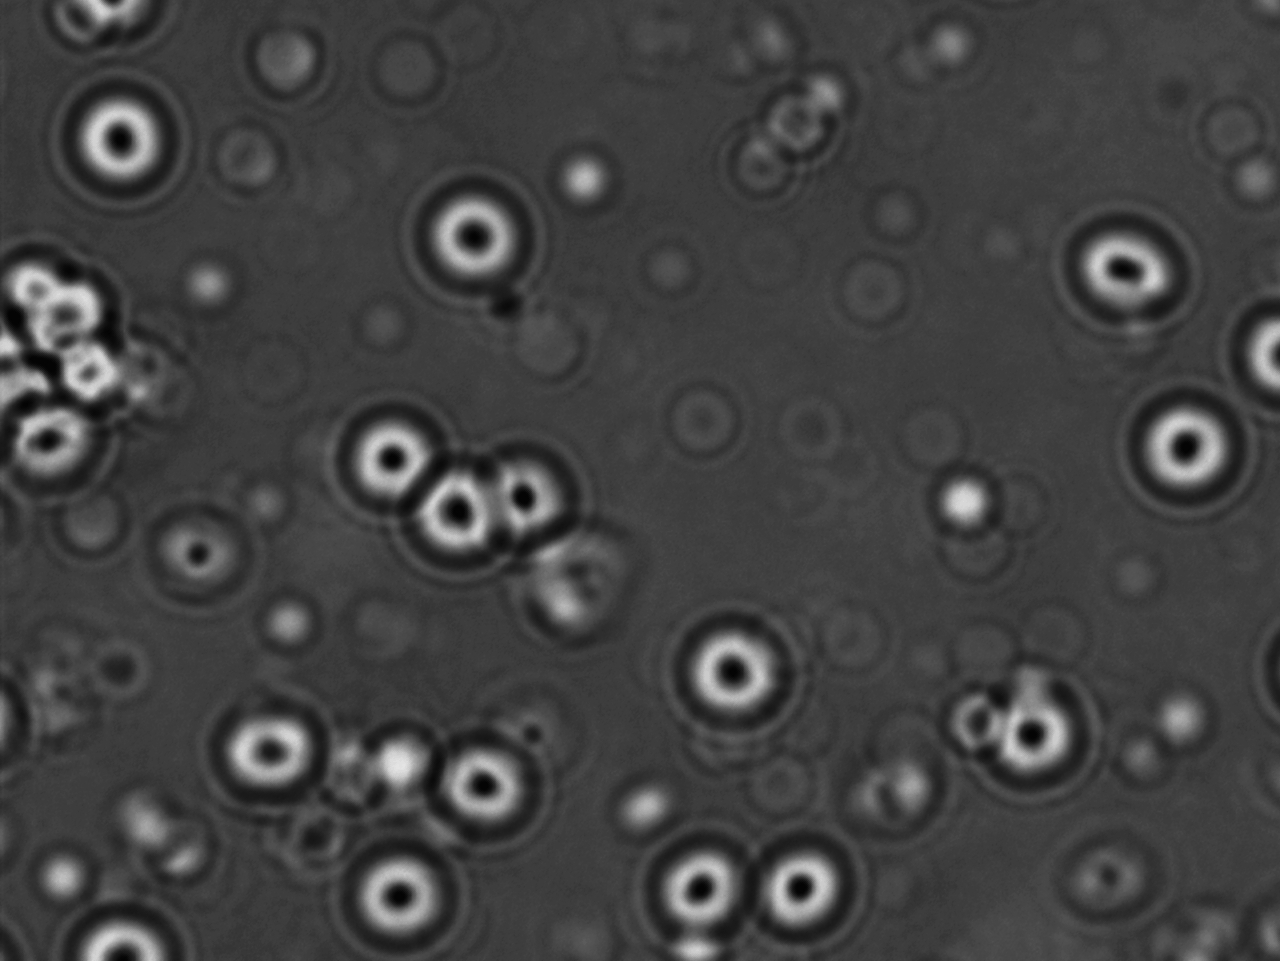depth:16: (401, 161, 561, 307), (51, 77, 199, 216), (662, 596, 807, 731), (965, 671, 1106, 808), (1063, 198, 1199, 332), (1122, 383, 1253, 518), (322, 380, 452, 508), (203, 685, 335, 810), (338, 829, 471, 948), (471, 436, 593, 559), (428, 726, 549, 846), (639, 817, 758, 938), (741, 830, 863, 938), (391, 460, 509, 570)
